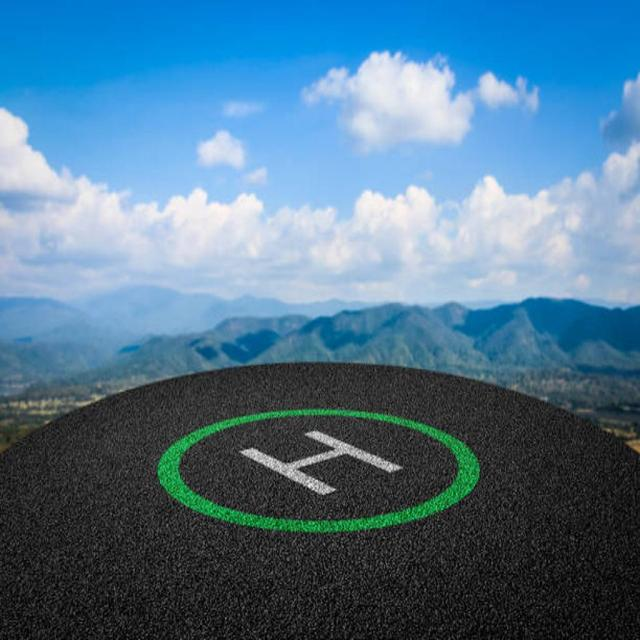helipad: (156, 408, 482, 534)
